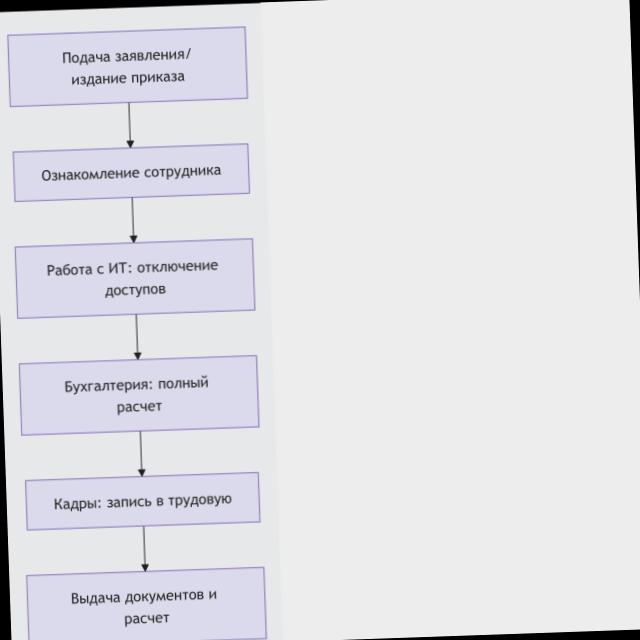arrow: (130, 198, 136, 242), (139, 432, 145, 476), (142, 527, 148, 571), (128, 103, 131, 138), (135, 315, 138, 349)
rectangle: (7, 27, 248, 106), (19, 356, 258, 435), (15, 239, 254, 317), (26, 568, 266, 639), (13, 144, 249, 201), (26, 473, 260, 530)
